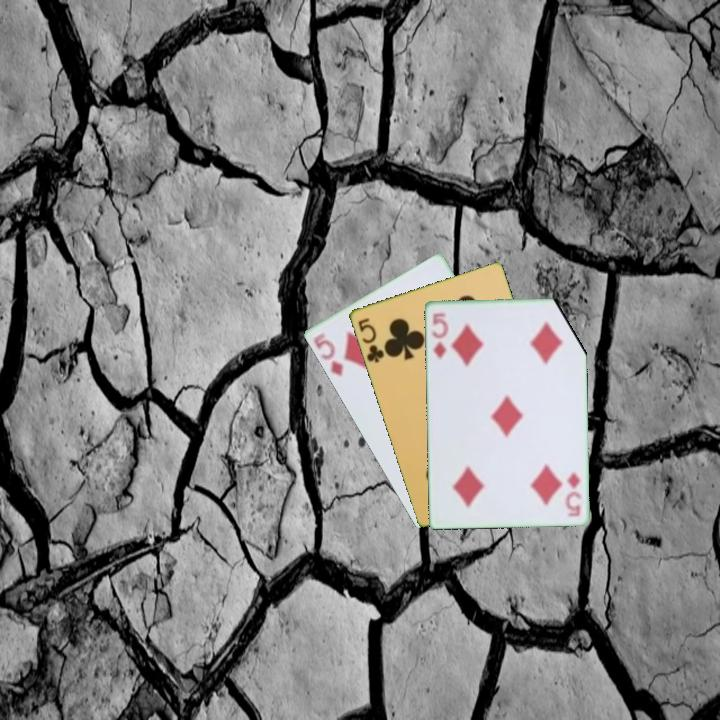5c: (354, 314, 387, 366)
5d: (309, 329, 346, 379), (429, 309, 450, 362), (563, 468, 584, 519)
